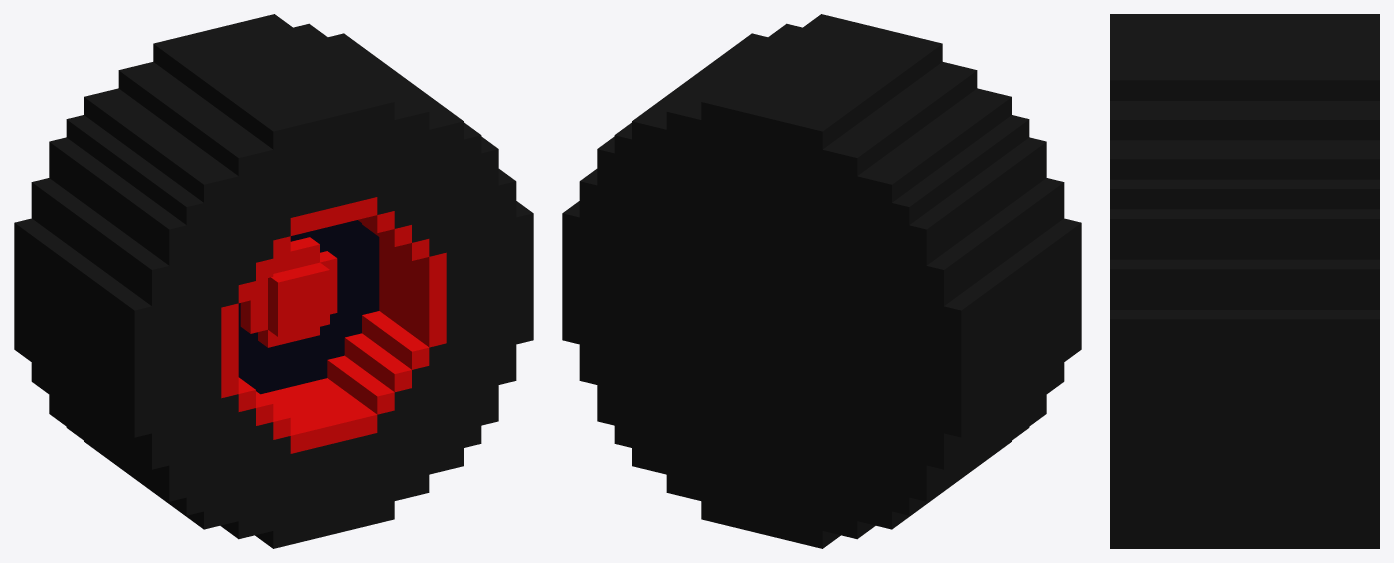
File: NeonLightTankEnemy-0.obj
The picture shows the model from 3 angles, left to right: view 1: azimuth 30°, elevation 25°; view 2: azimuth 150°, elevation 25°; view 3: azimuth 270°, elevation 25°; orthographic projection. The views are drawn at different scales.
Bounding box in the file's own units: 2.3 × 2.3 × 1.2.
Materials: 1 (1 with a texture image).
